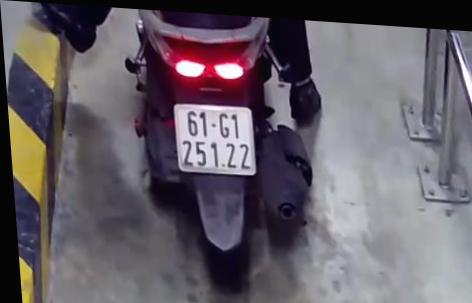License_Plate: (165, 99, 261, 181)
